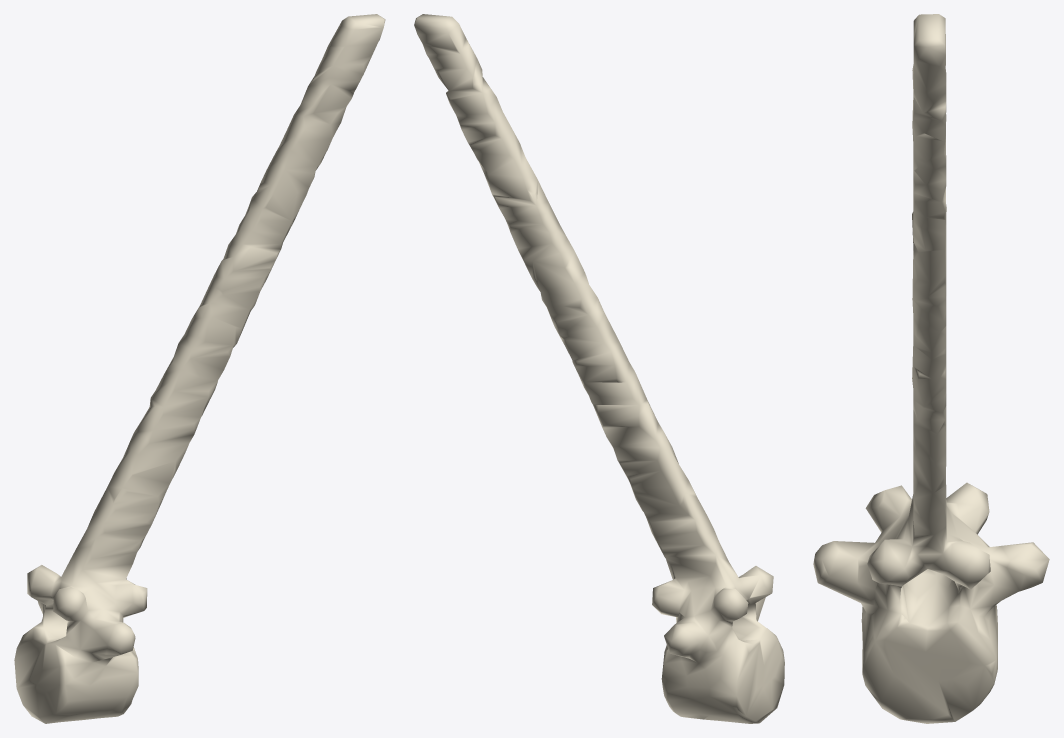
Rendered from thoracic_3.glb.
3 views of the same model, side by side, from view 1: azimuth 30°, elevation 25°; view 2: azimuth 150°, elevation 25°; view 3: azimuth 270°, elevation 25° (orthographic). The views are drawn at different scales.
Parts seen in each view (by area): view 1: geometry_0; view 2: geometry_0; view 3: geometry_0.
Boxes of the visible parts, x1,y1,x2,y2 form: geometry_0: (14, 14, 385, 723); geometry_0: (414, 14, 784, 723); geometry_0: (813, 14, 1049, 723).
Bounding box in the file's own units: 0.4767 × 0.8224 × 0.2011.
